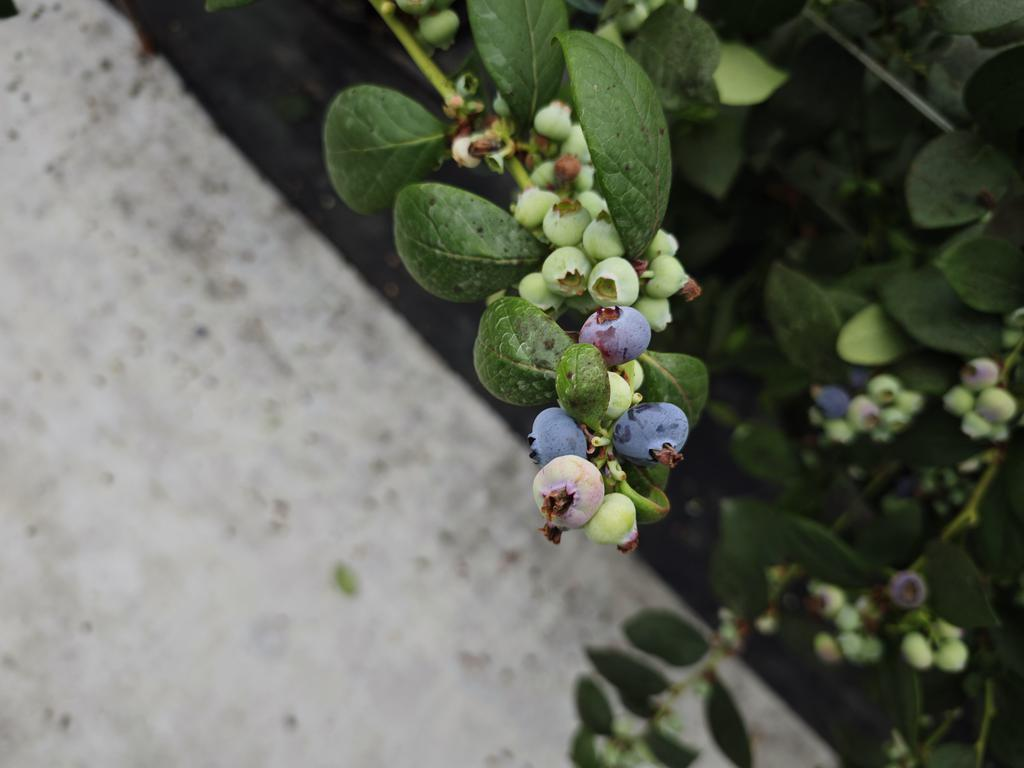RipeBlueBerry: (609, 391, 704, 478), (519, 406, 606, 476)
Semi-RipeBlueBerry: (576, 309, 657, 369)
UnripeBlueBerry: (531, 442, 610, 541), (539, 250, 592, 303), (590, 259, 640, 306)
